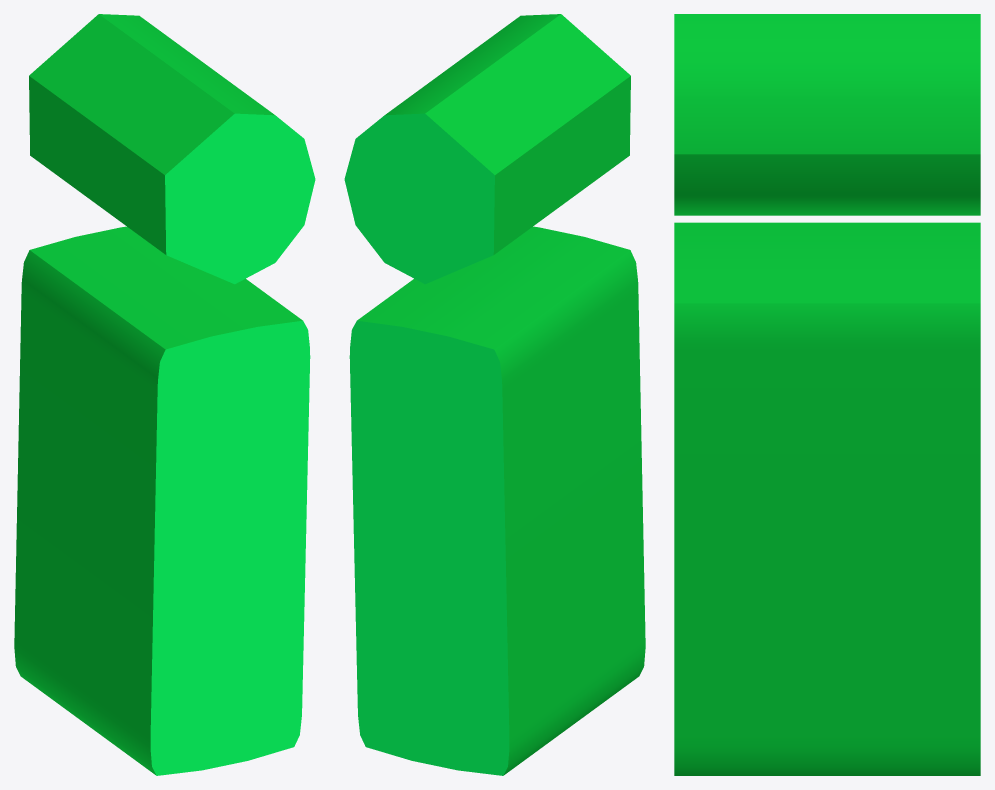
The model's file is I_Zyzol_Green.glb.
3 renders of one model, left to right at view 1: azimuth 30°, elevation 25°; view 2: azimuth 150°, elevation 25°; view 3: azimuth 270°, elevation 25°, orthographic. The views are drawn at different scales.
Visible parts, largest first — view 1: i_Zyzol_Green; view 2: i_Zyzol_Green; view 3: i_Zyzol_Green.
Part boxes in pixels (box(x1,y1,x2,y2)): i_Zyzol_Green: box(14, 14, 315, 775); i_Zyzol_Green: box(344, 14, 645, 775); i_Zyzol_Green: box(674, 14, 980, 775).
Size of what is drawn, in the model's own units: 0.0315 by 0.1187 by 0.045.
Materials: 2 (2 with a texture image).
